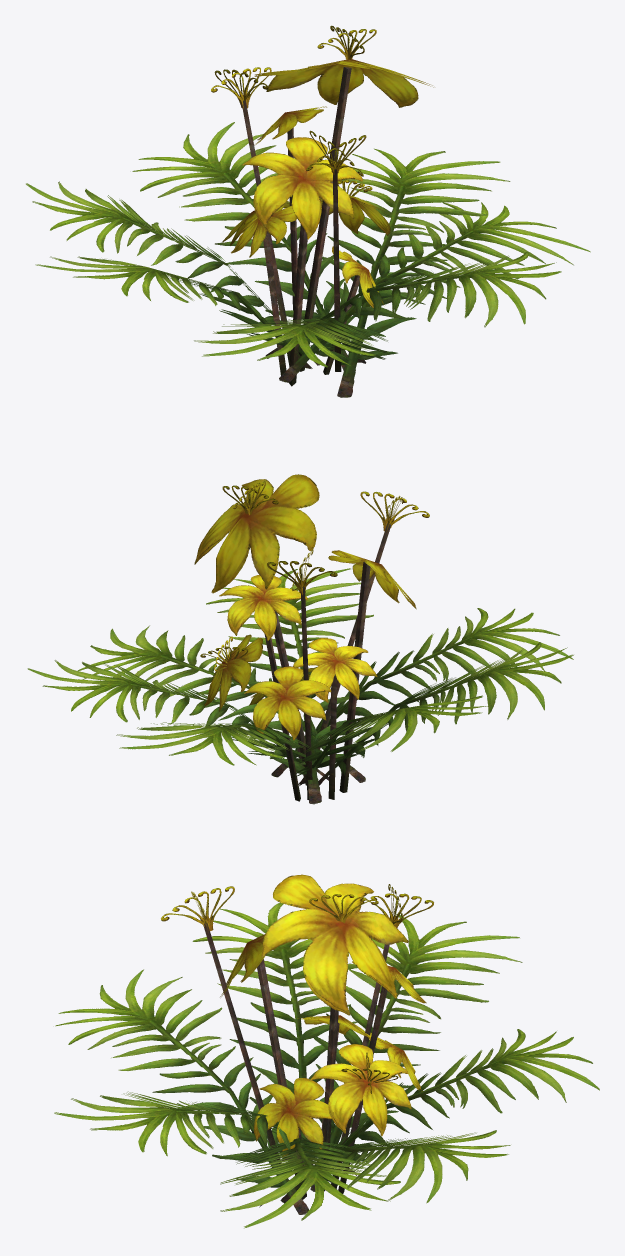
Rendered from guanmu_015.FBX.
The picture shows the model from 3 angles, top to bottom: view 1: azimuth 30°, elevation 25°; view 2: azimuth 150°, elevation 25°; view 3: azimuth 270°, elevation 25°; orthographic projection. The views are drawn at different scales.
Visible parts, largest first — view 1: guanmu_015_02; view 2: guanmu_015_02; view 3: guanmu_015_02.
Part boxes in pixels (x1=…): guanmu_015_02: x1=26, y1=25, x2=590, y2=397; guanmu_015_02: x1=27, y1=474, x2=573, y2=804; guanmu_015_02: x1=54, y1=874, x2=599, y2=1228.
Bounding box in the file's own units: 1.65 × 1.02 × 1.56.
